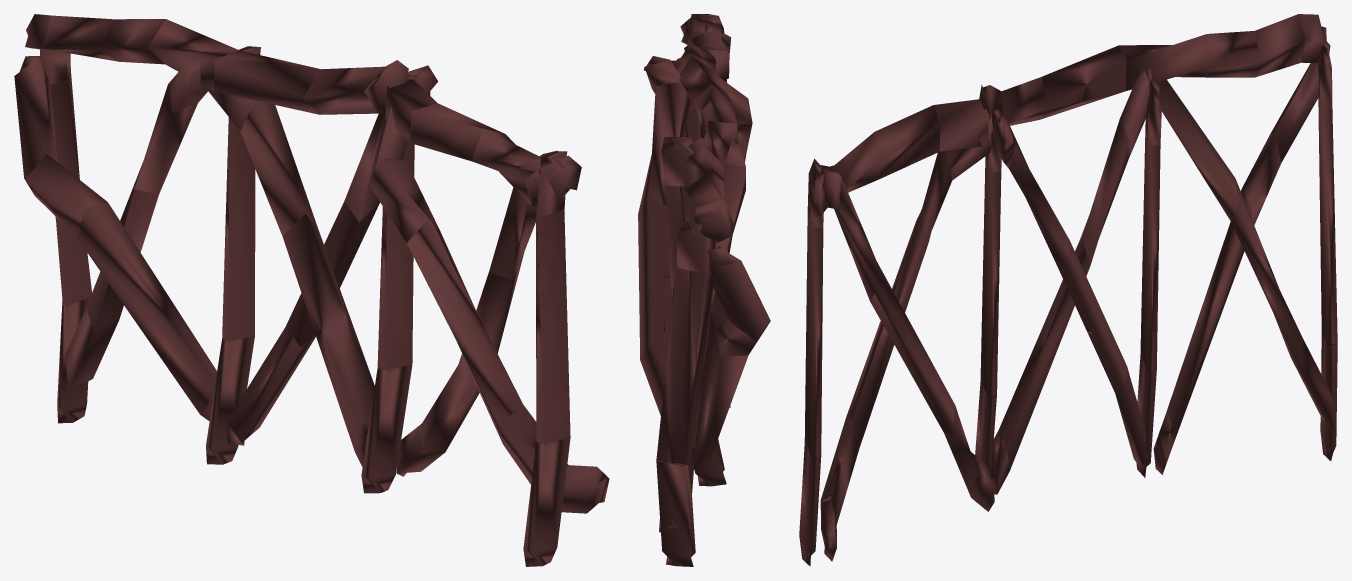
Rendered from singleFence.fbx.
3 renders of one model, left to right at view 1: azimuth 30°, elevation 25°; view 2: azimuth 150°, elevation 25°; view 3: azimuth 270°, elevation 25°, orthographic. The views are drawn at different scales.
Parts seen in each view (by area): view 1: Untitled; view 2: Untitled; view 3: Untitled.
Boxes of the visible parts, <box> form: Untitled: <box>14,14,609,566</box>; Untitled: <box>638,14,770,566</box>; Untitled: <box>799,14,1337,566</box>.
Bounding box in the file's own units: 579 × 681 × 736.
